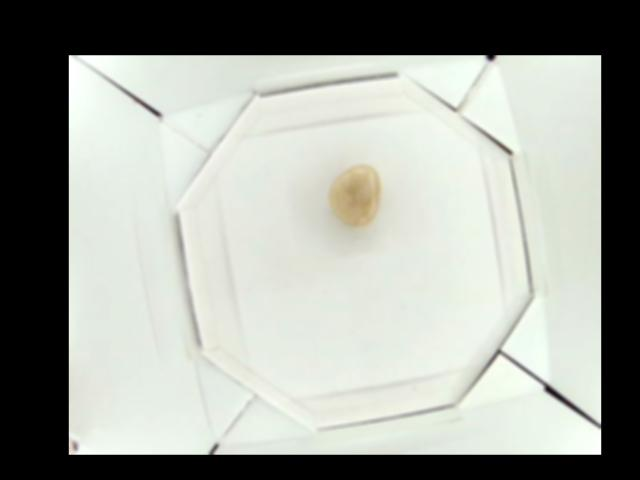Pebble: (327, 162, 379, 226)
